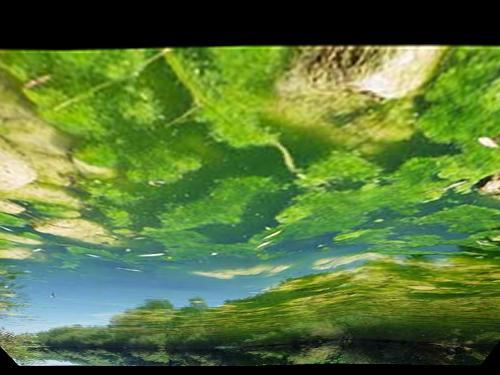Eutrophication Pollution: (5, 58, 500, 303)
